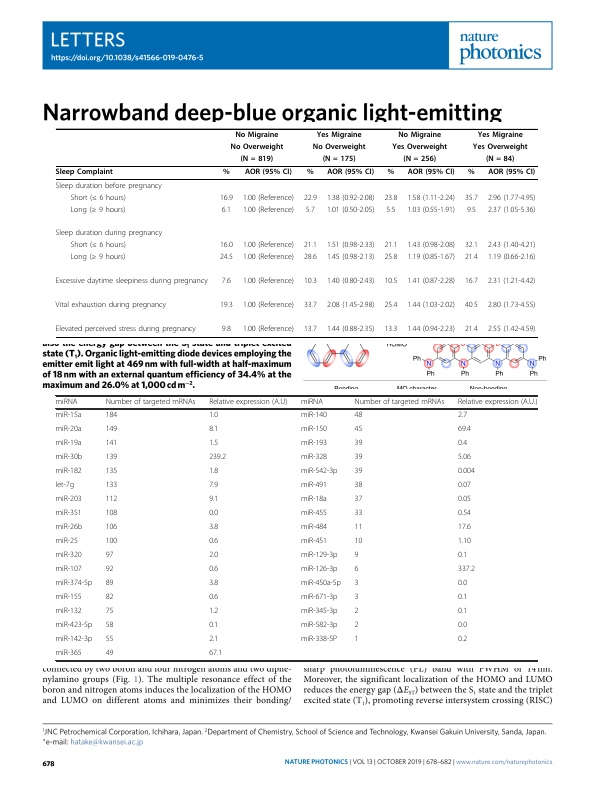borderless: (54, 394, 537, 660), (55, 127, 538, 337)
cell: (55, 277, 209, 286), (55, 325, 197, 334), (55, 181, 163, 191), (55, 229, 163, 239), (55, 301, 167, 310), (353, 398, 445, 407), (105, 398, 196, 407), (457, 398, 538, 407), (208, 398, 288, 407), (69, 193, 127, 203), (69, 241, 127, 251), (69, 205, 126, 215), (69, 253, 126, 263), (55, 168, 114, 177), (242, 193, 295, 203), (242, 205, 295, 215), (242, 241, 295, 251), (242, 253, 295, 263), (391, 143, 448, 152), (472, 143, 528, 152), (406, 193, 456, 203), (406, 205, 456, 215), (406, 241, 456, 251), (406, 253, 456, 263), (326, 193, 375, 203), (487, 193, 536, 203), (326, 205, 375, 215), (487, 205, 536, 215), (326, 241, 375, 251), (487, 241, 536, 251), (326, 253, 375, 263), (487, 253, 536, 263), (230, 143, 284, 152), (312, 143, 366, 152), (242, 277, 295, 286), (242, 301, 295, 310), (242, 325, 295, 334), (406, 277, 456, 286), (406, 301, 456, 310), (406, 325, 456, 334), (244, 168, 293, 177), (326, 168, 375, 177), (487, 168, 536, 177), (326, 277, 375, 286), (487, 277, 536, 286), (326, 301, 375, 310), (487, 301, 536, 310), (326, 325, 375, 334), (487, 325, 536, 334), (407, 168, 455, 177), (316, 131, 363, 140), (477, 131, 524, 140), (300, 579, 342, 589), (234, 131, 279, 140), (397, 131, 442, 140), (300, 467, 338, 477), (300, 551, 338, 561), (300, 565, 338, 575), (55, 579, 93, 589), (300, 593, 338, 603), (300, 607, 338, 617), (55, 621, 93, 631), (300, 621, 338, 631), (55, 635, 93, 645), (300, 635, 338, 645), (239, 155, 274, 164), (402, 155, 437, 164), (322, 155, 356, 164), (300, 411, 328, 421), (300, 425, 328, 435), (300, 439, 328, 449), (55, 453, 83, 463), (300, 453, 328, 463), (300, 481, 328, 491), (300, 495, 328, 505), (300, 509, 328, 519), (55, 523, 83, 533), (300, 523, 328, 533), (300, 537, 328, 547), (55, 411, 82, 421), (55, 425, 82, 435), (55, 439, 82, 449), (55, 467, 82, 477), (55, 495, 82, 505), (55, 509, 82, 519), (55, 551, 82, 561), (55, 565, 82, 575), (55, 593, 82, 603), (55, 607, 82, 617), (55, 649, 82, 659), (485, 155, 515, 164), (55, 537, 79, 547), (300, 398, 324, 407), (55, 398, 78, 407), (55, 481, 75, 491), (208, 453, 227, 463), (457, 467, 476, 477), (457, 565, 476, 575), (457, 425, 472, 435), (457, 453, 472, 463), (457, 481, 472, 491), (457, 495, 472, 505), (457, 509, 472, 519), (457, 523, 472, 533), (457, 537, 472, 547), (208, 649, 223, 659), (219, 193, 234, 203), (303, 193, 318, 203), (383, 193, 398, 203), (464, 193, 479, 203), (219, 241, 234, 251), (303, 241, 318, 251), (383, 241, 398, 251), (464, 241, 479, 251), (219, 253, 234, 263), (303, 253, 318, 263), (383, 253, 398, 263), (464, 253, 479, 263), (303, 277, 318, 286), (383, 277, 398, 286), (464, 277, 479, 286), (219, 301, 234, 310), (303, 301, 318, 310), (383, 301, 398, 310), (464, 301, 479, 310), (303, 325, 318, 334), (383, 325, 398, 334), (464, 325, 479, 334), (105, 411, 118, 421), (105, 425, 118, 435), (105, 439, 118, 449), (105, 453, 118, 463), (105, 467, 118, 477), (105, 481, 118, 491), (105, 495, 118, 505), (105, 509, 118, 519), (105, 523, 118, 533), (105, 537, 118, 547), (208, 411, 219, 421), (457, 411, 468, 421), (208, 425, 219, 435), (208, 439, 219, 449), (457, 439, 468, 449), (208, 467, 219, 477), (208, 481, 219, 491), (208, 495, 219, 505), (208, 509, 219, 519), (208, 523, 219, 533), (208, 537, 219, 547), (208, 551, 219, 561), (457, 551, 468, 561), (208, 565, 219, 575), (208, 579, 219, 589), (457, 579, 468, 589), (208, 593, 219, 603), (457, 593, 468, 603), (208, 607, 219, 617), (457, 607, 468, 617), (208, 621, 219, 631), (457, 621, 468, 631), (208, 635, 219, 645), (457, 635, 468, 645), (221, 205, 232, 215), (305, 205, 316, 215), (385, 205, 396, 215), (466, 205, 477, 215), (353, 411, 363, 421), (353, 425, 363, 435), (353, 439, 363, 449), (353, 453, 363, 463), (353, 467, 363, 477), (353, 481, 363, 491), (353, 495, 363, 505), (353, 509, 363, 519), (353, 523, 363, 533), (353, 537, 363, 547), (221, 277, 232, 286), (221, 325, 232, 334), (105, 551, 114, 561), (105, 565, 114, 575), (105, 579, 114, 589), (105, 593, 114, 603), (105, 607, 114, 617), (105, 621, 114, 631), (105, 635, 114, 645), (105, 649, 114, 659), (222, 168, 231, 177), (306, 168, 315, 177), (386, 168, 395, 177), (467, 168, 476, 177), (353, 551, 359, 561), (353, 565, 359, 575), (353, 579, 359, 589), (353, 593, 359, 603), (353, 607, 359, 617), (353, 621, 359, 631), (353, 635, 359, 645)
